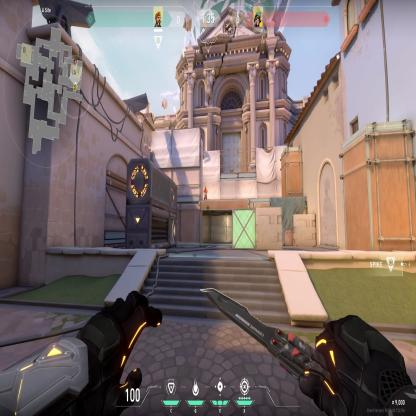enemy: (203, 186, 208, 200)
